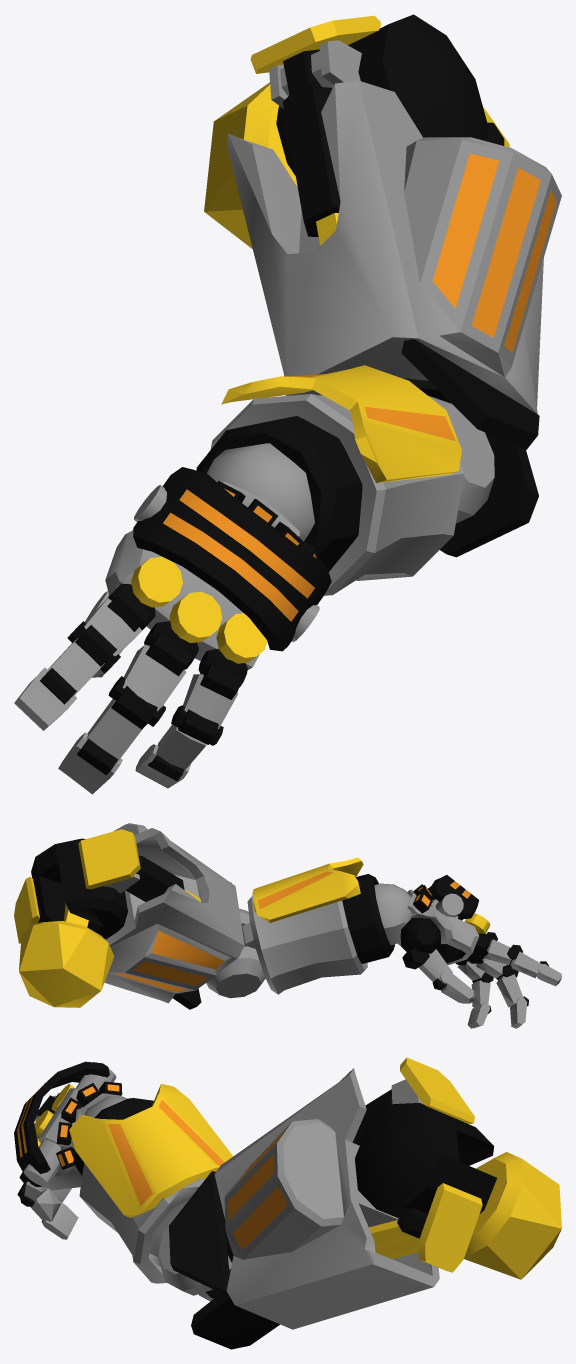
File: Hand EX.fbx
3 renders of one model, top to bottom at view 1: azimuth 30°, elevation 25°; view 2: azimuth 150°, elevation 25°; view 3: azimuth 270°, elevation 25°, orthographic. The views are drawn at different scales.
Parts seen in each view (by area): view 1: coll-19_42; view 2: coll-19_42; view 3: coll-19_42.
Boxes of the visible parts, box(x1,y1,x2,y2) form: coll-19_42: box(14, 14, 561, 794); coll-19_42: box(14, 823, 561, 1028); coll-19_42: box(14, 1057, 561, 1349).
Size of the model in its own units: 430 by 249 by 396.
